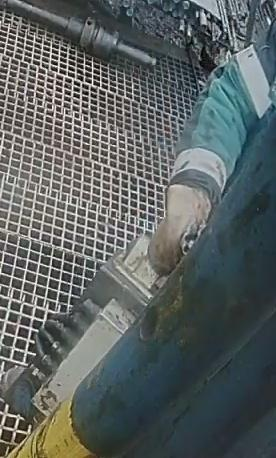gloves: (146, 173, 213, 276)
vest: (176, 19, 275, 178)
